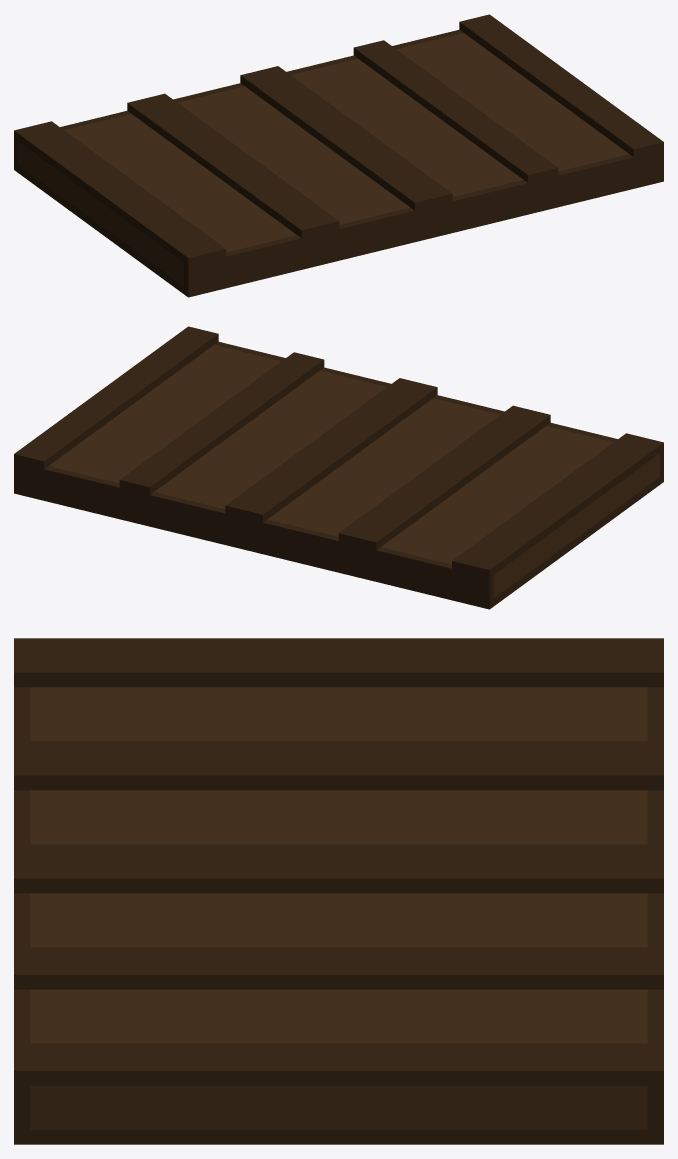
File: ponte-2.obj
The picture shows the model from 3 angles, top to bottom: view 1: azimuth 30°, elevation 25°; view 2: azimuth 150°, elevation 25°; view 3: azimuth 270°, elevation 25°; orthographic projection. The views are drawn at different scales.
Bounding box in the file's own units: 6.3 × 0.5 × 4.
1 material, 1 textured.
